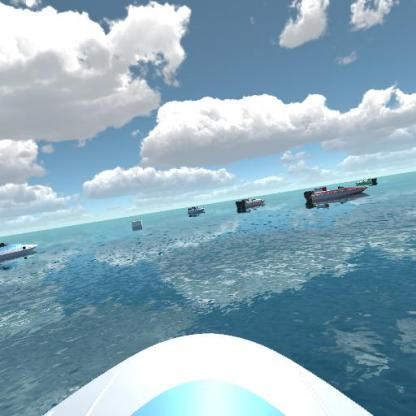usv0: (357, 175, 380, 188)
usv1: (0, 233, 41, 266), (184, 202, 205, 217)
usv3: (304, 183, 370, 208), (233, 193, 266, 213)
